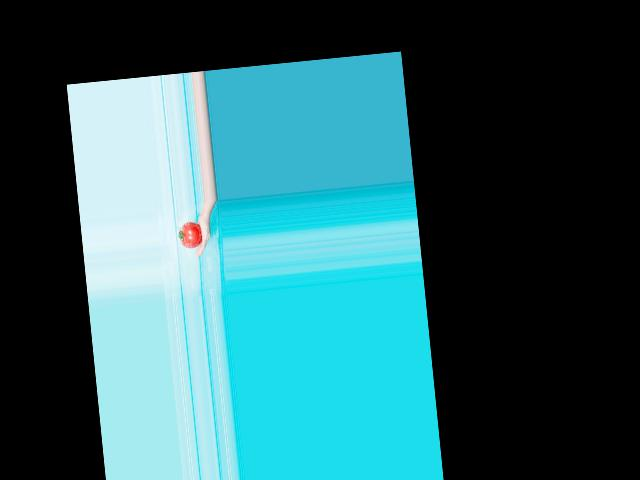tomato: (177, 221, 203, 249)
